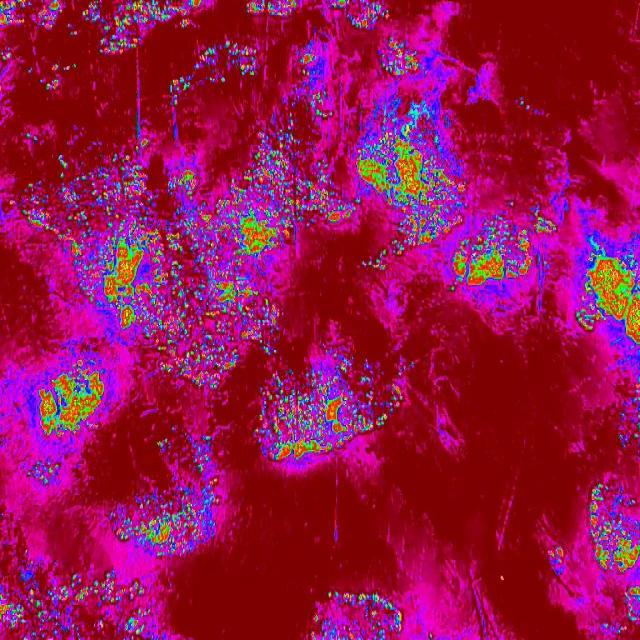fire: (84, 136, 289, 382), (354, 83, 469, 255), (258, 372, 399, 459), (111, 479, 226, 560), (589, 481, 640, 640), (574, 240, 640, 360), (450, 216, 549, 293), (32, 358, 116, 432), (305, 584, 410, 640), (288, 156, 350, 230)
